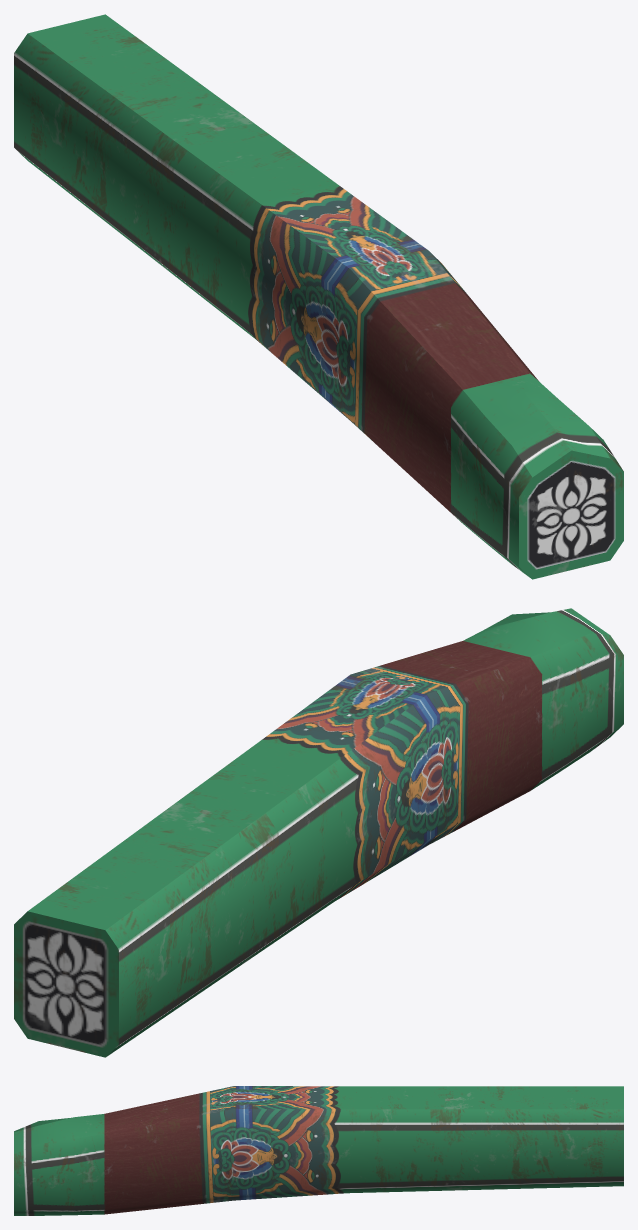
File: SM_Chunglyang01d.fbx
3 renders of one model, top to bottom at view 1: azimuth 30°, elevation 25°; view 2: azimuth 150°, elevation 25°; view 3: azimuth 270°, elevation 25°, orthographic. The views are drawn at different scales.
Parts seen in each view (by area): view 1: SM_Chunglyang01d; view 2: SM_Chunglyang01d; view 3: SM_Chunglyang01d.
Boxes of the visible parts, x1,y1,x2,y2 form: SM_Chunglyang01d: [14, 14, 623, 579]; SM_Chunglyang01d: [14, 608, 623, 1057]; SM_Chunglyang01d: [14, 1086, 623, 1215].
Bounding box in the file's own units: 25 × 208 × 40.28.
1 material, 1 textured.
